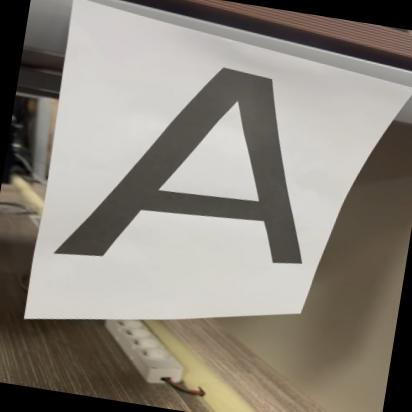seat: (46, 29, 346, 293)
